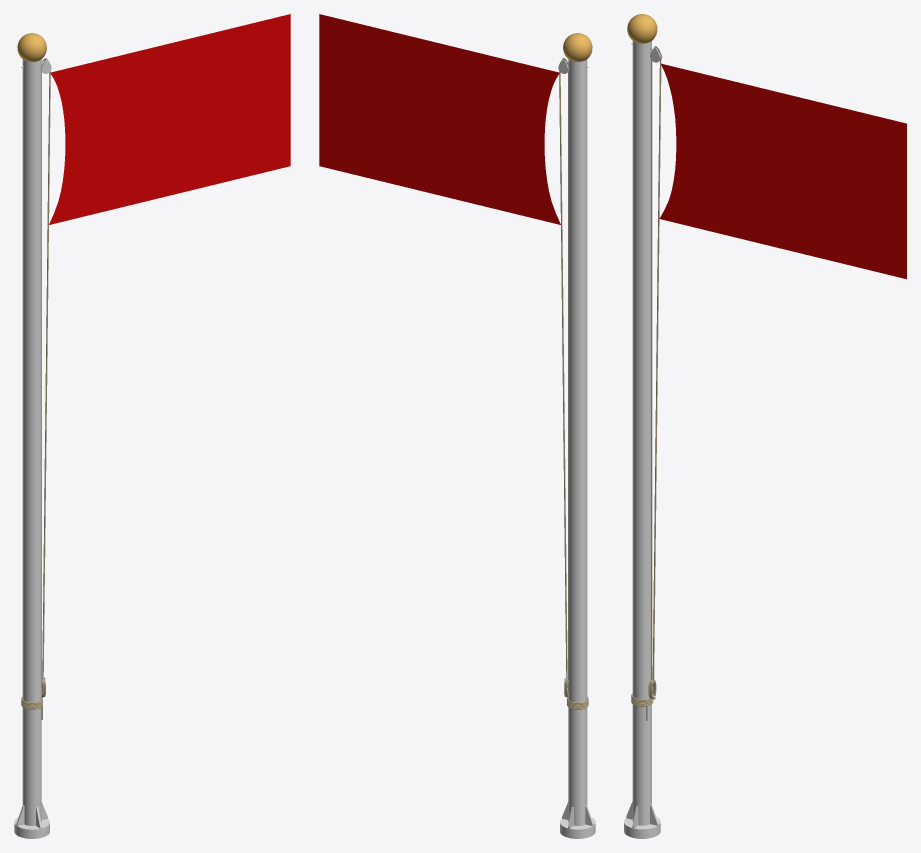
File: FlagPole.fbx
3 renders of one model, left to right at view 1: azimuth 30°, elevation 25°; view 2: azimuth 150°, elevation 25°; view 3: azimuth 330°, elevation 25°, orthographic. The views are drawn at different scales.
Visible parts, largest first — view 1: Cloth, Flag Pole; view 2: Cloth, Flag Pole; view 3: Cloth, Flag Pole.
Boxes of the visible parts, left/top/right/bottom form: Cloth: left=49, top=14, right=290, bottom=224; Flag Pole: left=14, top=33, right=51, bottom=838; Cloth: left=319, top=14, right=560, bottom=224; Flag Pole: left=558, top=33, right=595, bottom=838; Cloth: left=659, top=63, right=906, bottom=279; Flag Pole: left=624, top=14, right=662, bottom=838.
Bounding box in the file's own units: 377 × 1048 × 42.73.
